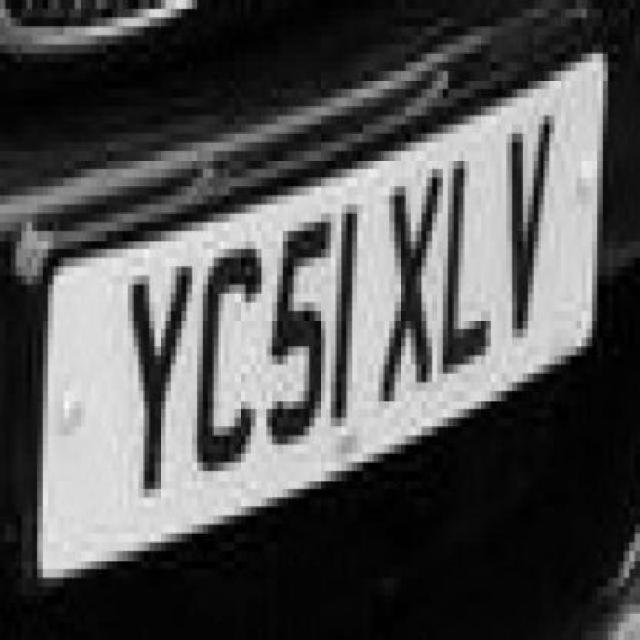licenseplate: (31, 46, 615, 586)
